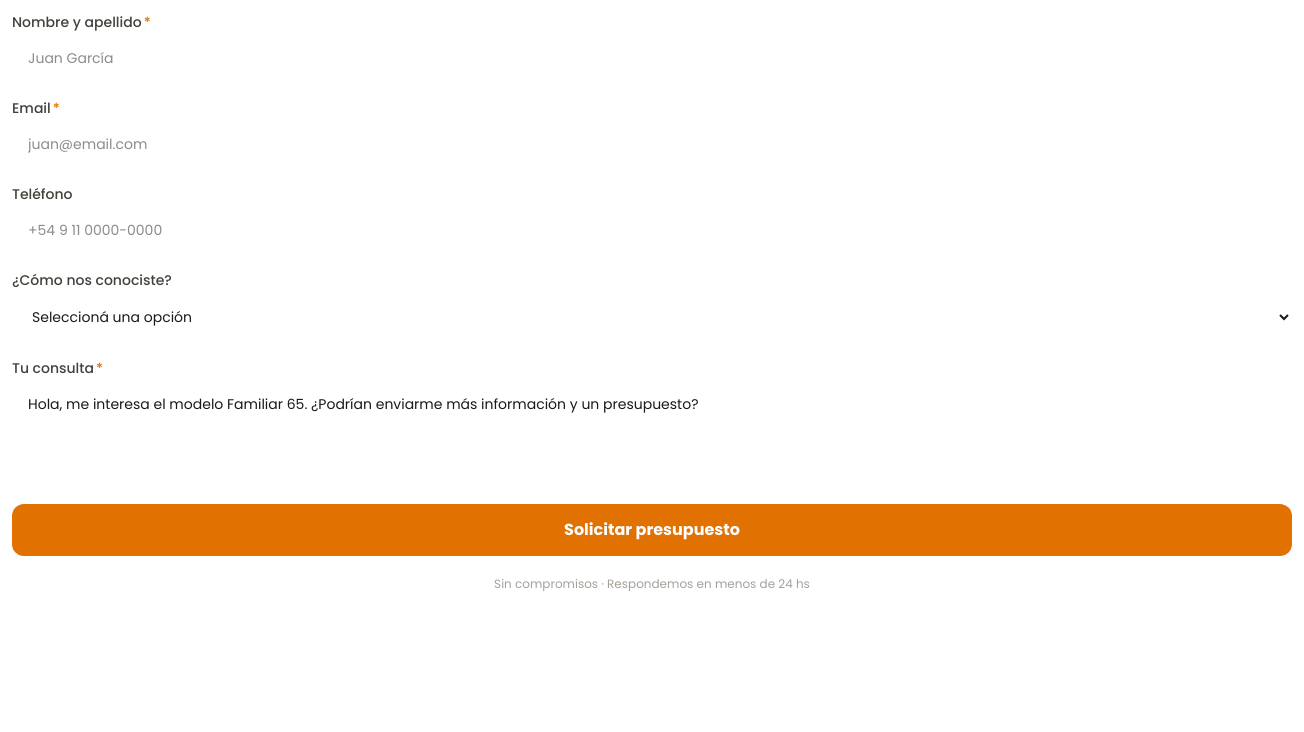
Scenario: ContactForm › muestra estado de éxito tras enviar datos válidos
Type "Ana Pérez" into the field with placeholder "Juan García" at {"x": 652, "y": 58}, box x1=12 y1=38 x2=1292 y2=78
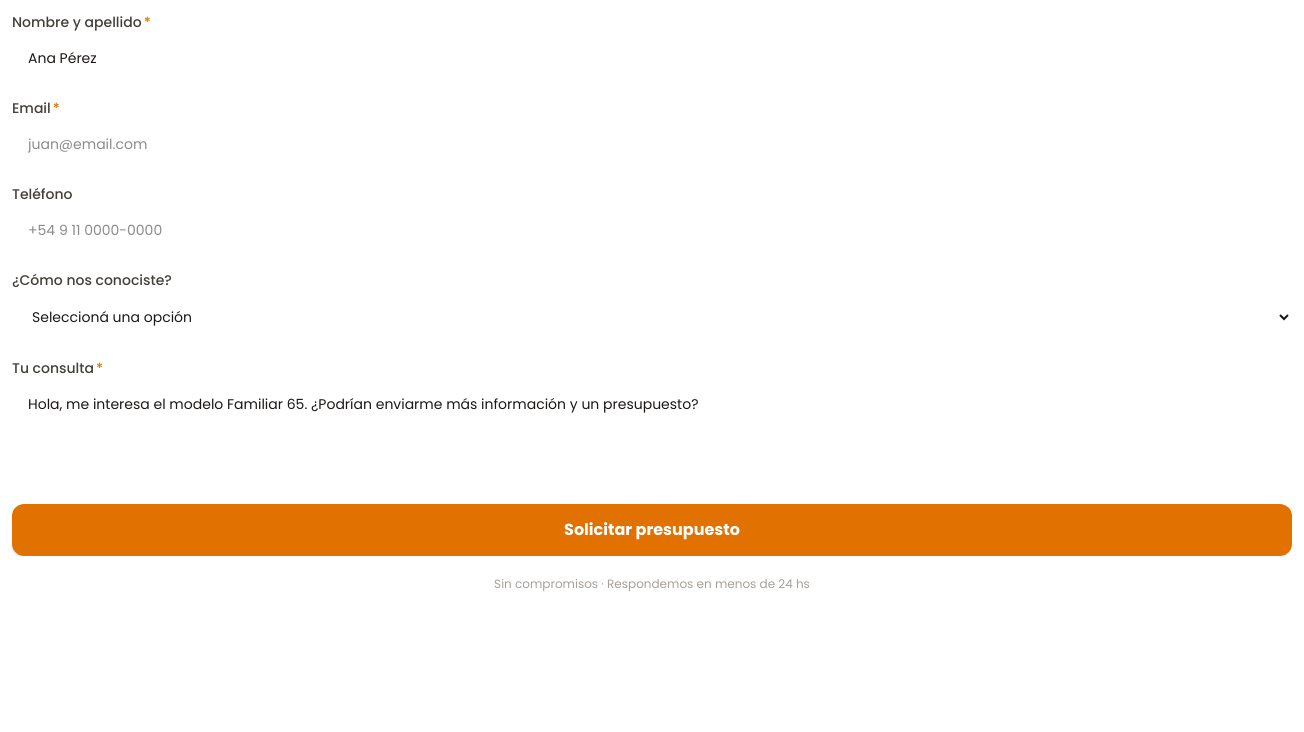
Type "ana@test.com" into the field with placeholder "juan@email.com" at {"x": 652, "y": 144}, box x1=12 y1=124 x2=1292 y2=164
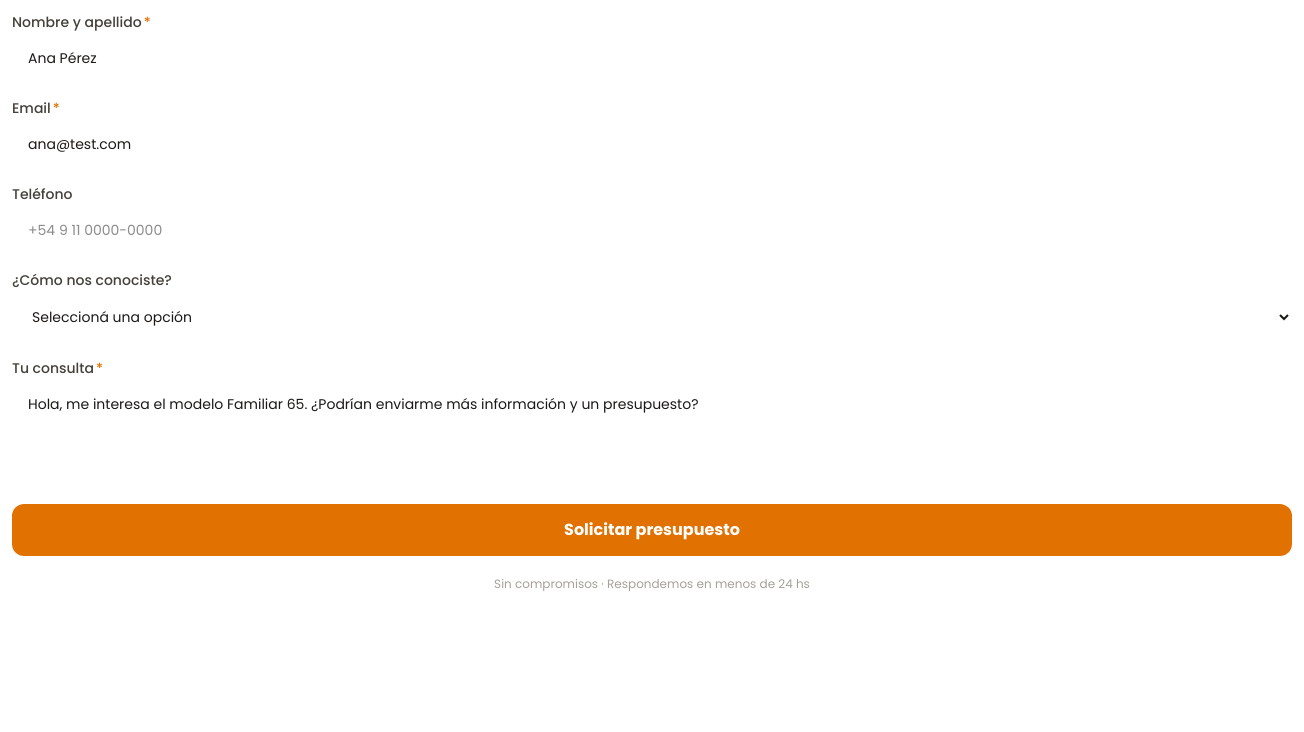
Click the button "Solicitar presupuesto" at {"x": 652, "y": 530}, box x1=12 y1=504 x2=1292 y2=556
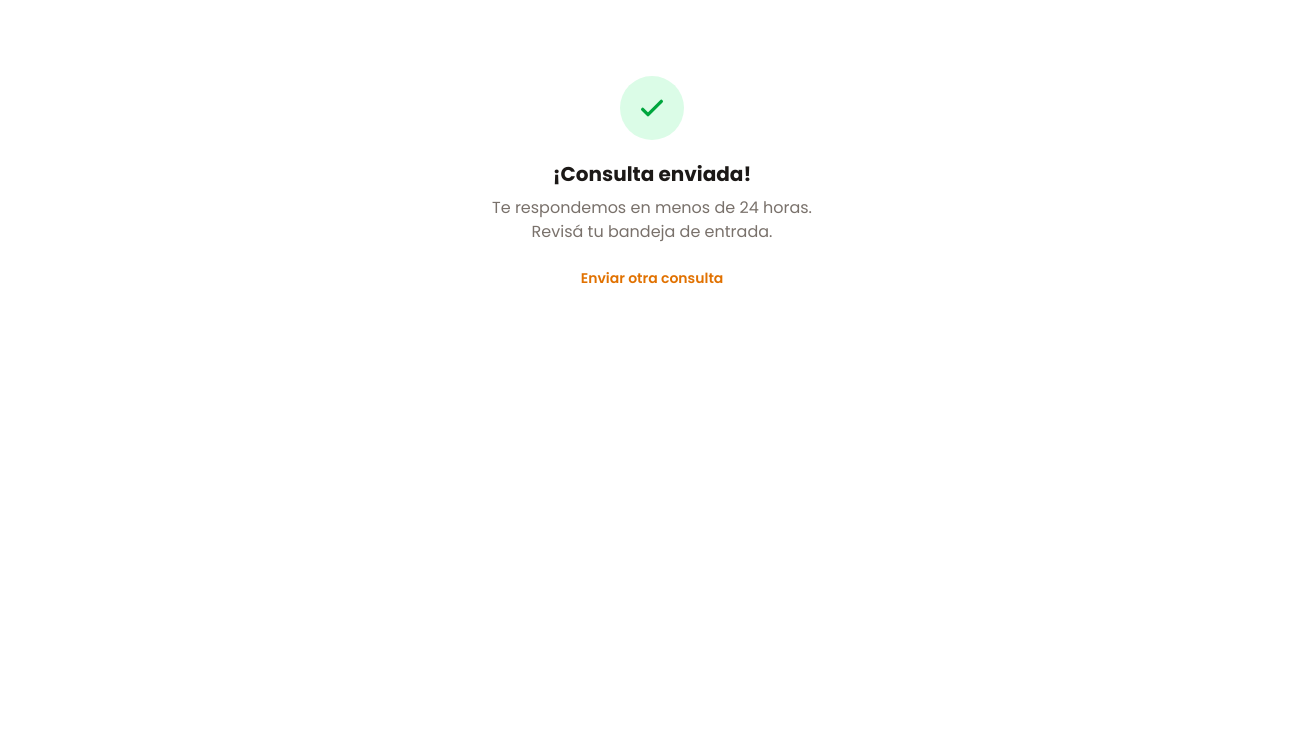
Expected: the heading "¡Consulta enviada!" is shown, x1=553 y1=160 x2=751 y2=188
